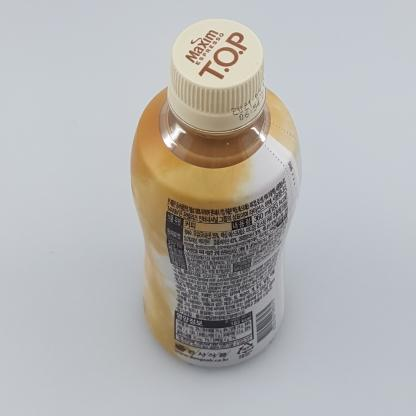--------TOP-----------: (130, 18, 301, 369)
